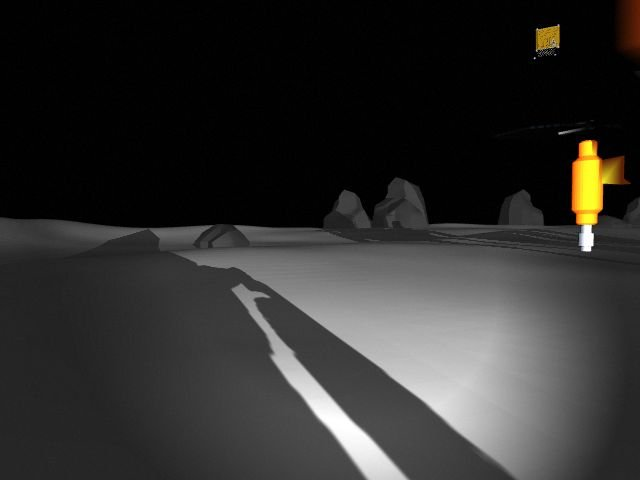cubesat: (526, 16, 578, 69)
